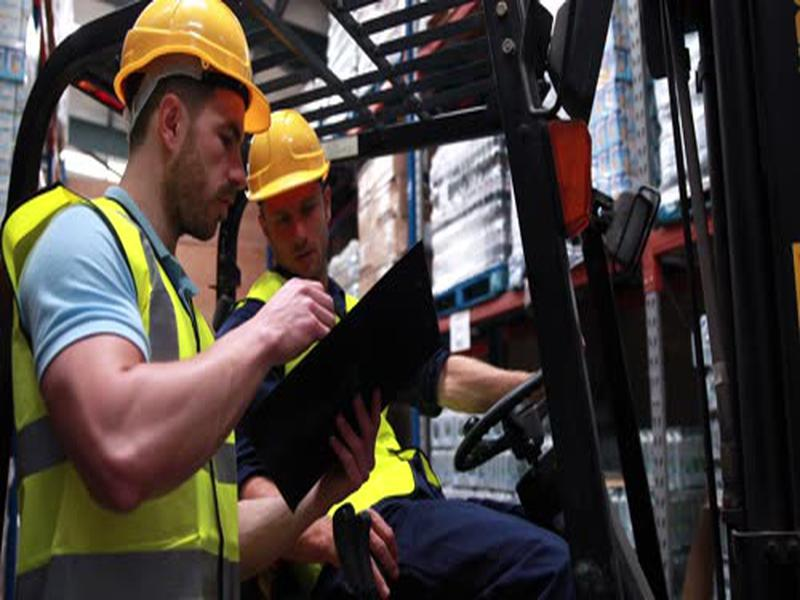hard-hat: (112, 1, 274, 139), (242, 109, 334, 206)
